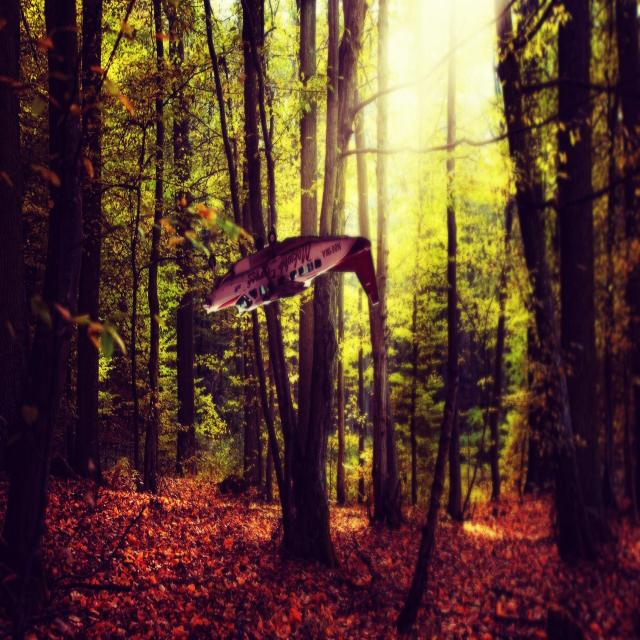airplane: (202, 225, 380, 317)
